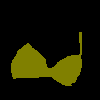reggiseno: (11, 32, 82, 86)
